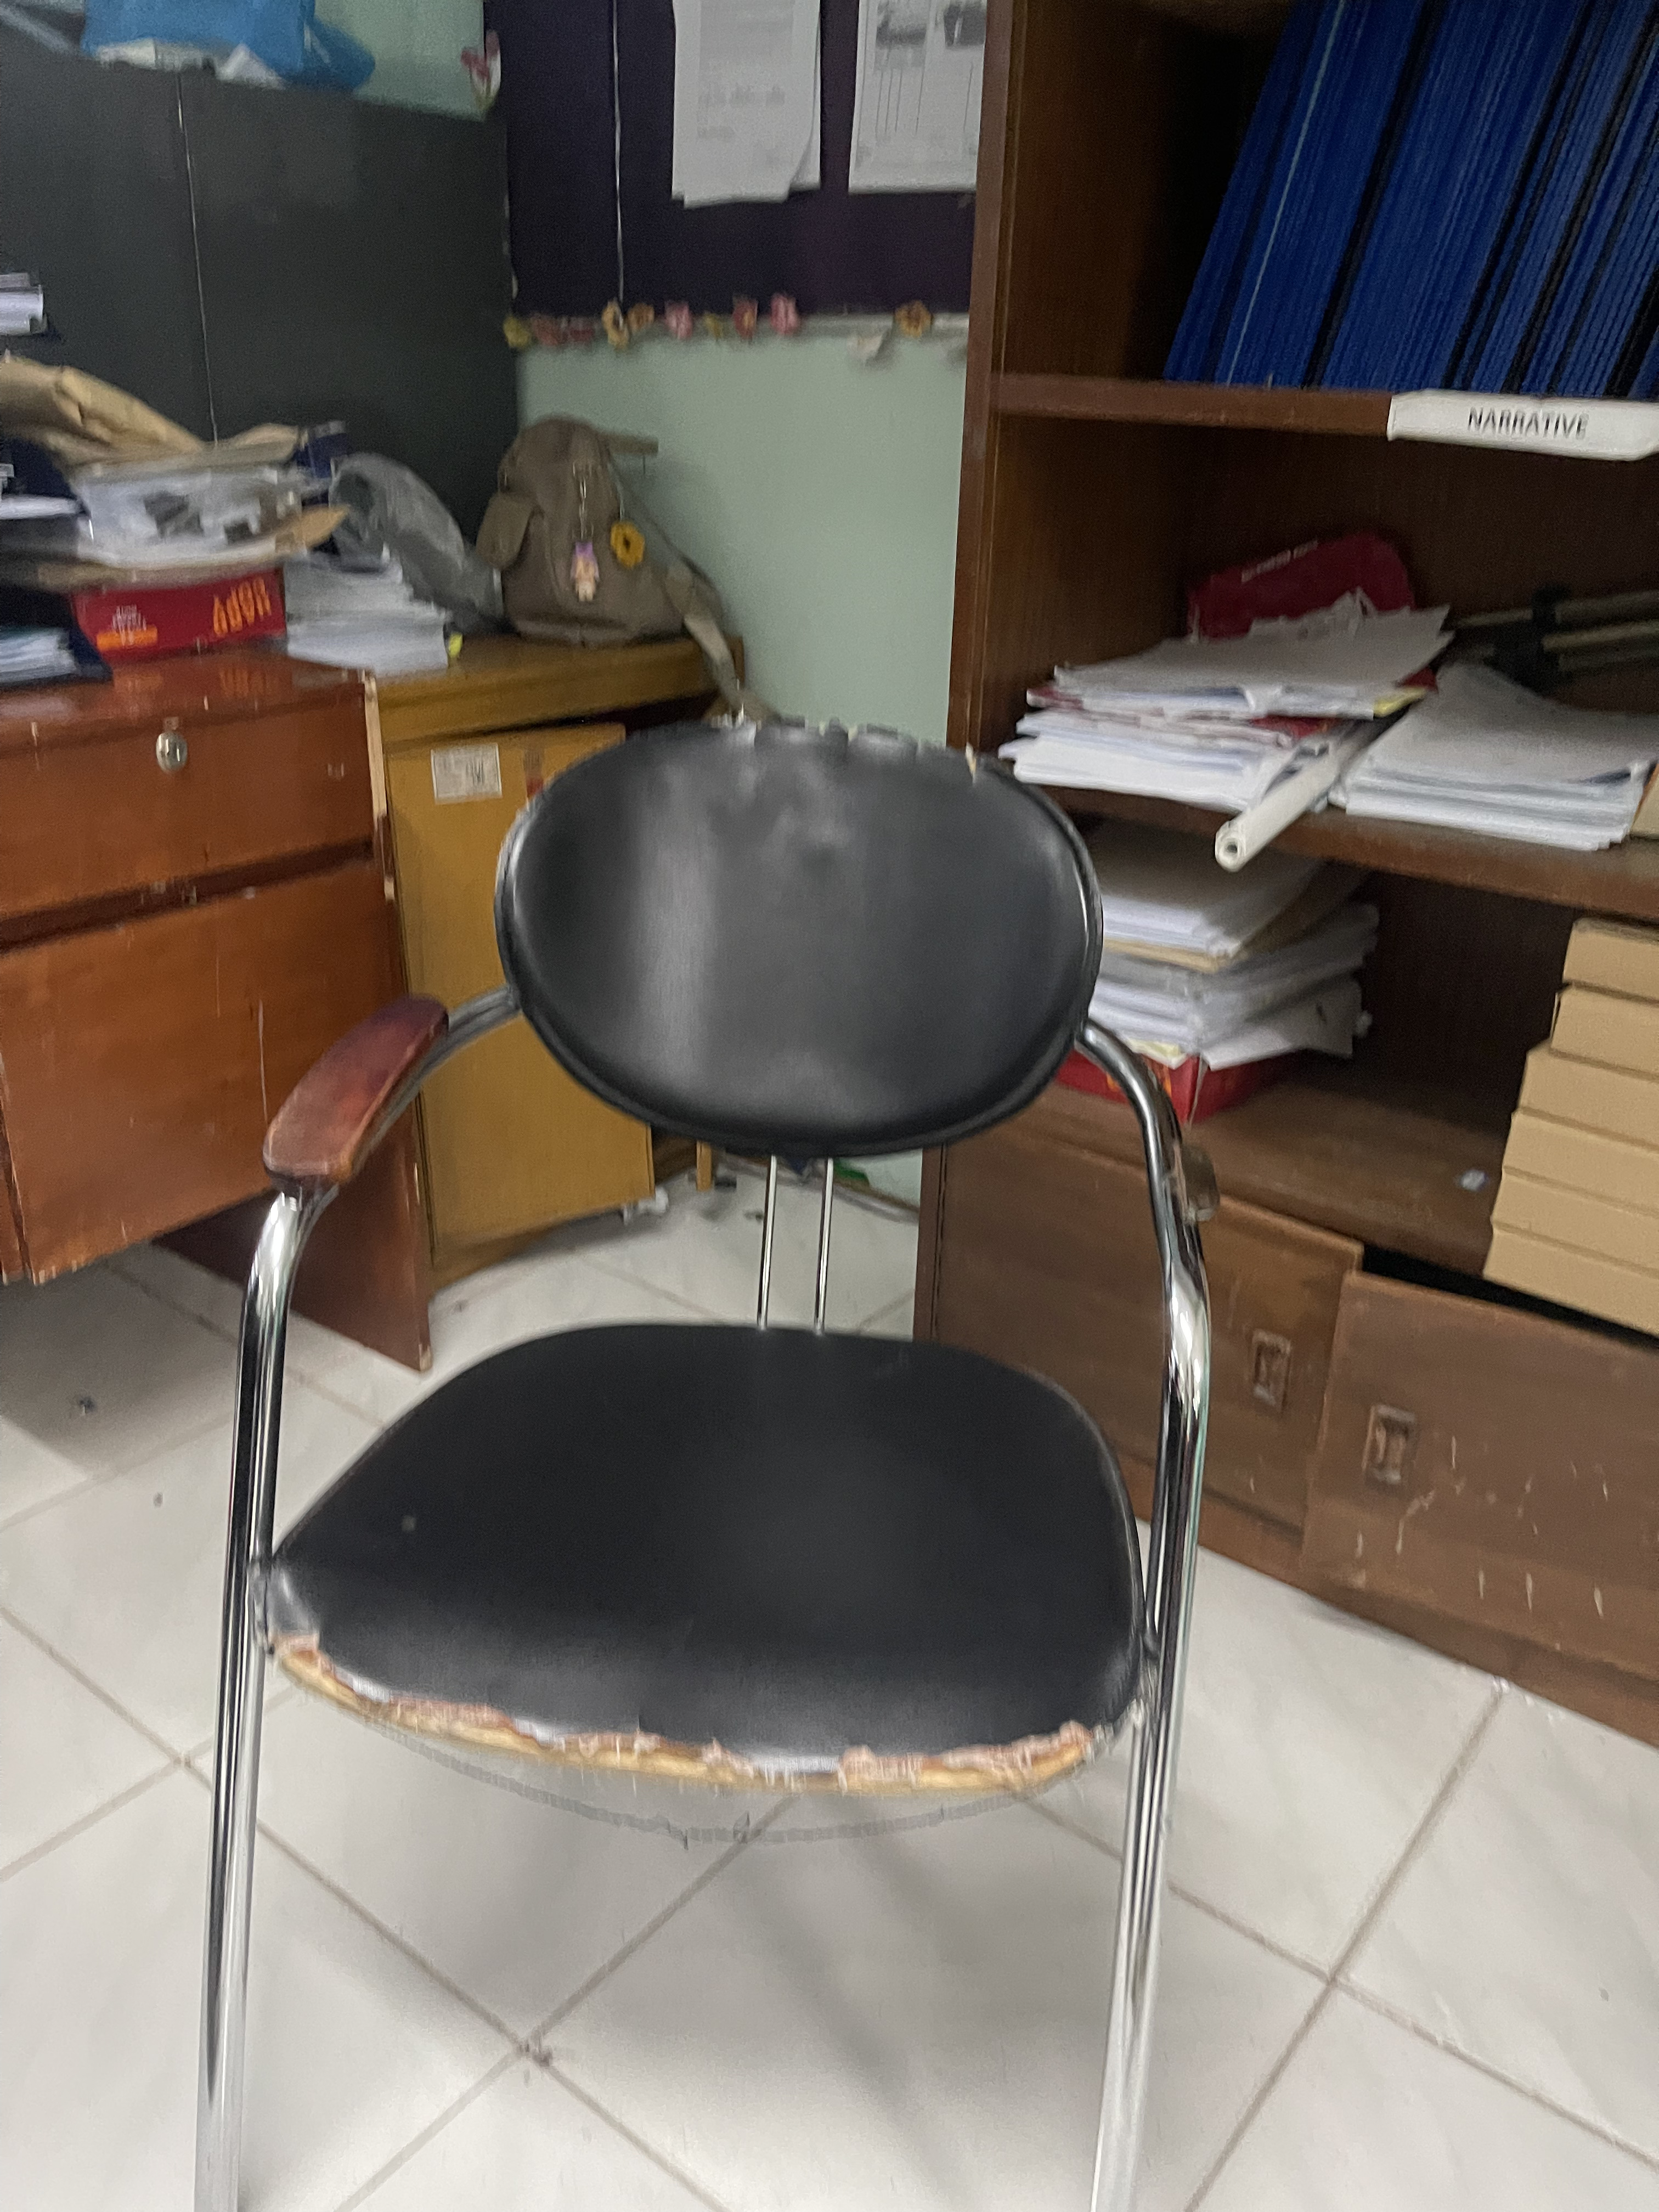chair1: (178, 714, 1230, 2212)
